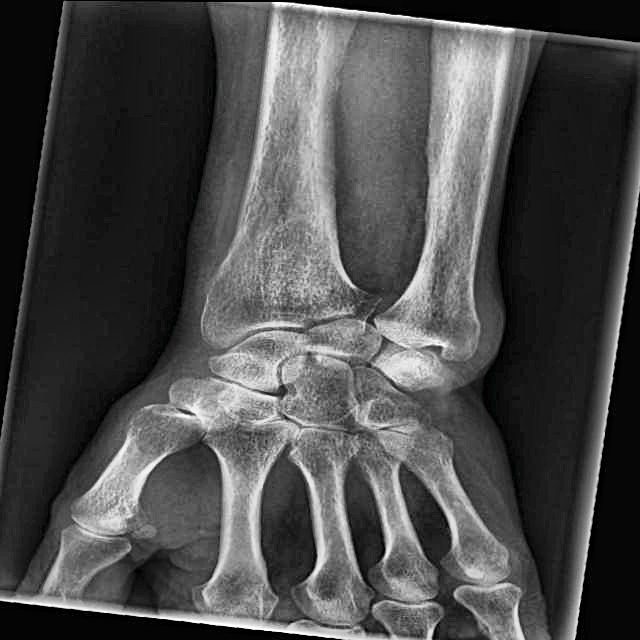Healthy: (98, 60, 566, 614)
